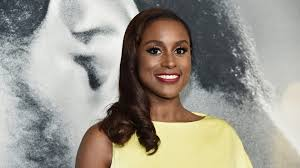black_female: (131, 6, 196, 98)
